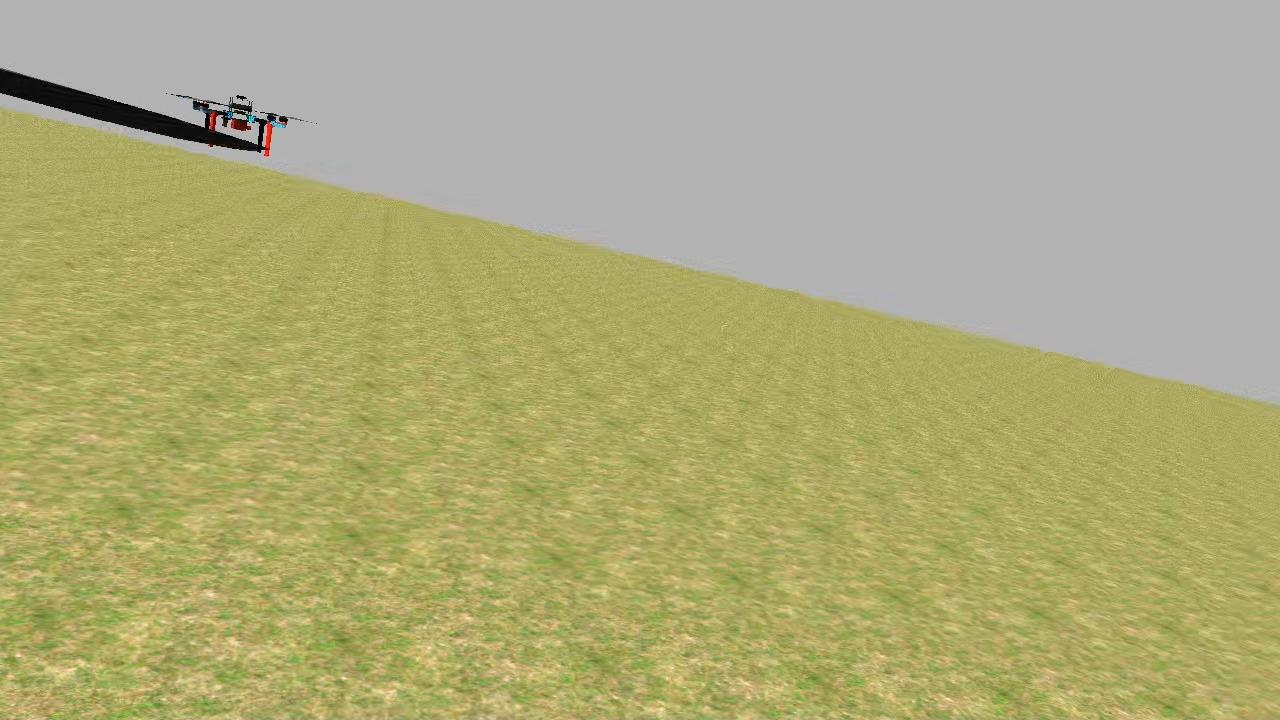UAV: (182, 76, 298, 160)
